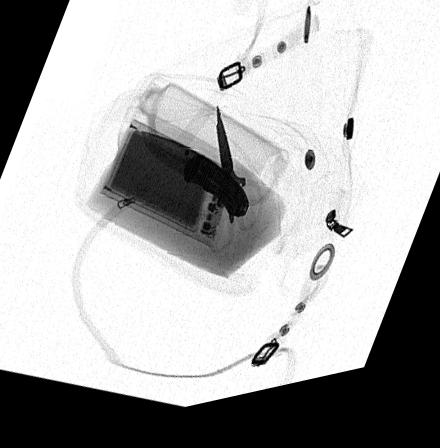Knife: (140, 136, 250, 234)
Powerbank: (103, 128, 236, 257)
Scissors: (212, 110, 262, 262)
